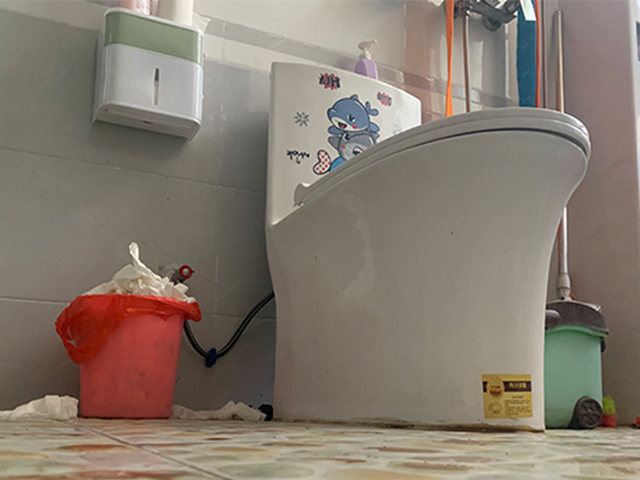closestool: (264, 60, 592, 433)
trashcan: (71, 293, 200, 421)
